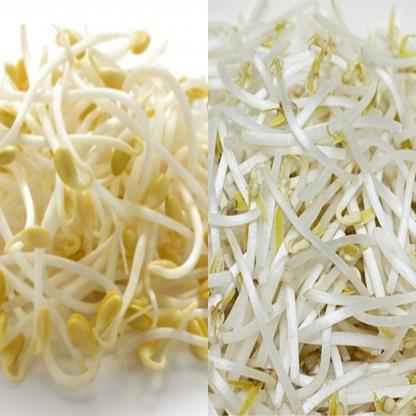bean sprouts: (0, 11, 205, 392), (211, 43, 410, 400)
